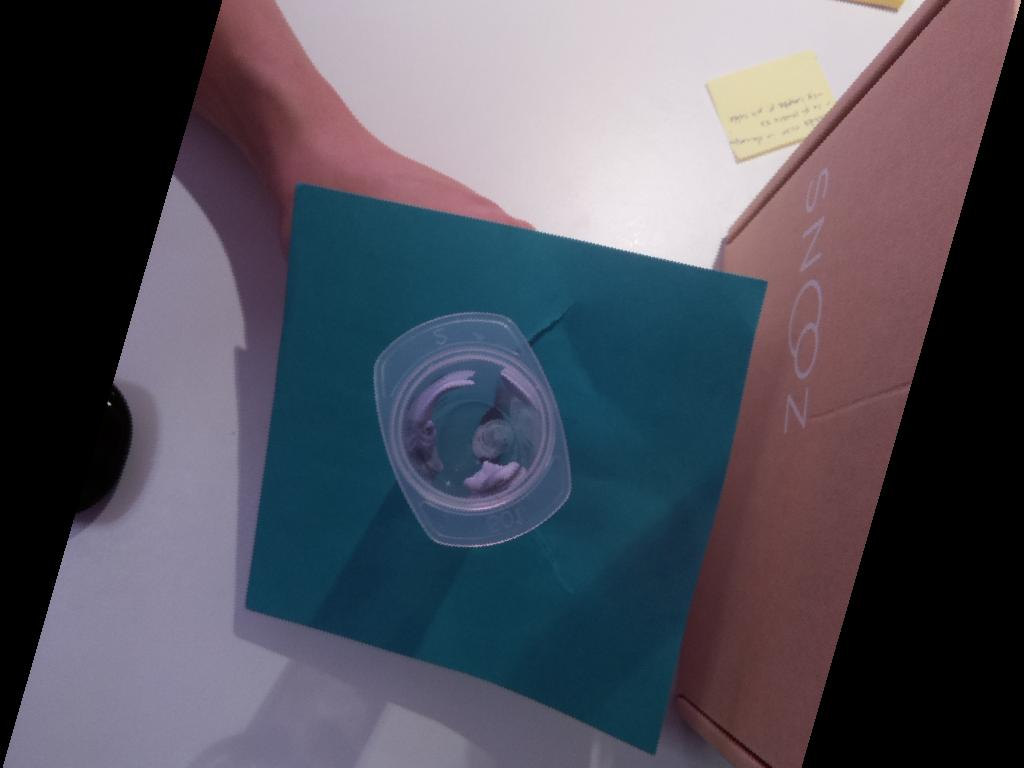dirty: (371, 311, 574, 549)
